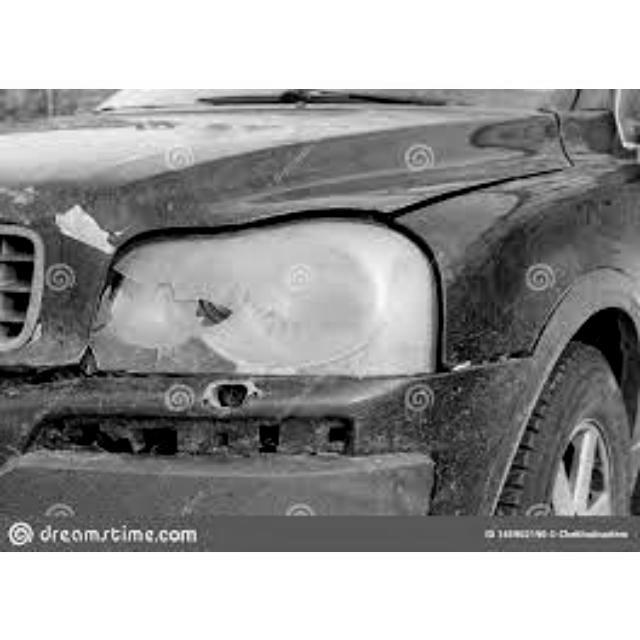Headlight-damage: (88, 213, 468, 406)
front-bumper-dent: (0, 343, 576, 515)
